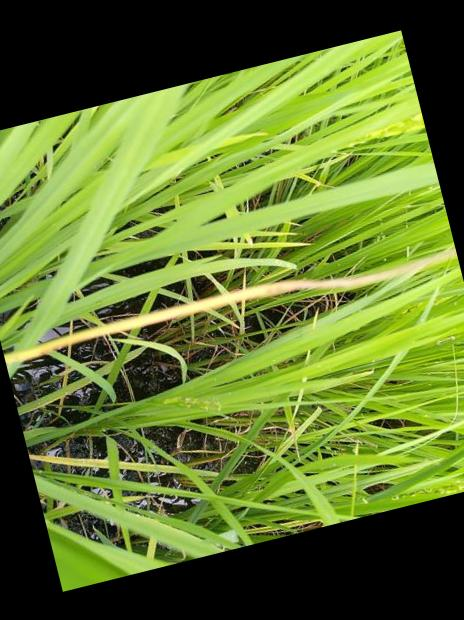Leaf Blight: (4, 271, 402, 362)
